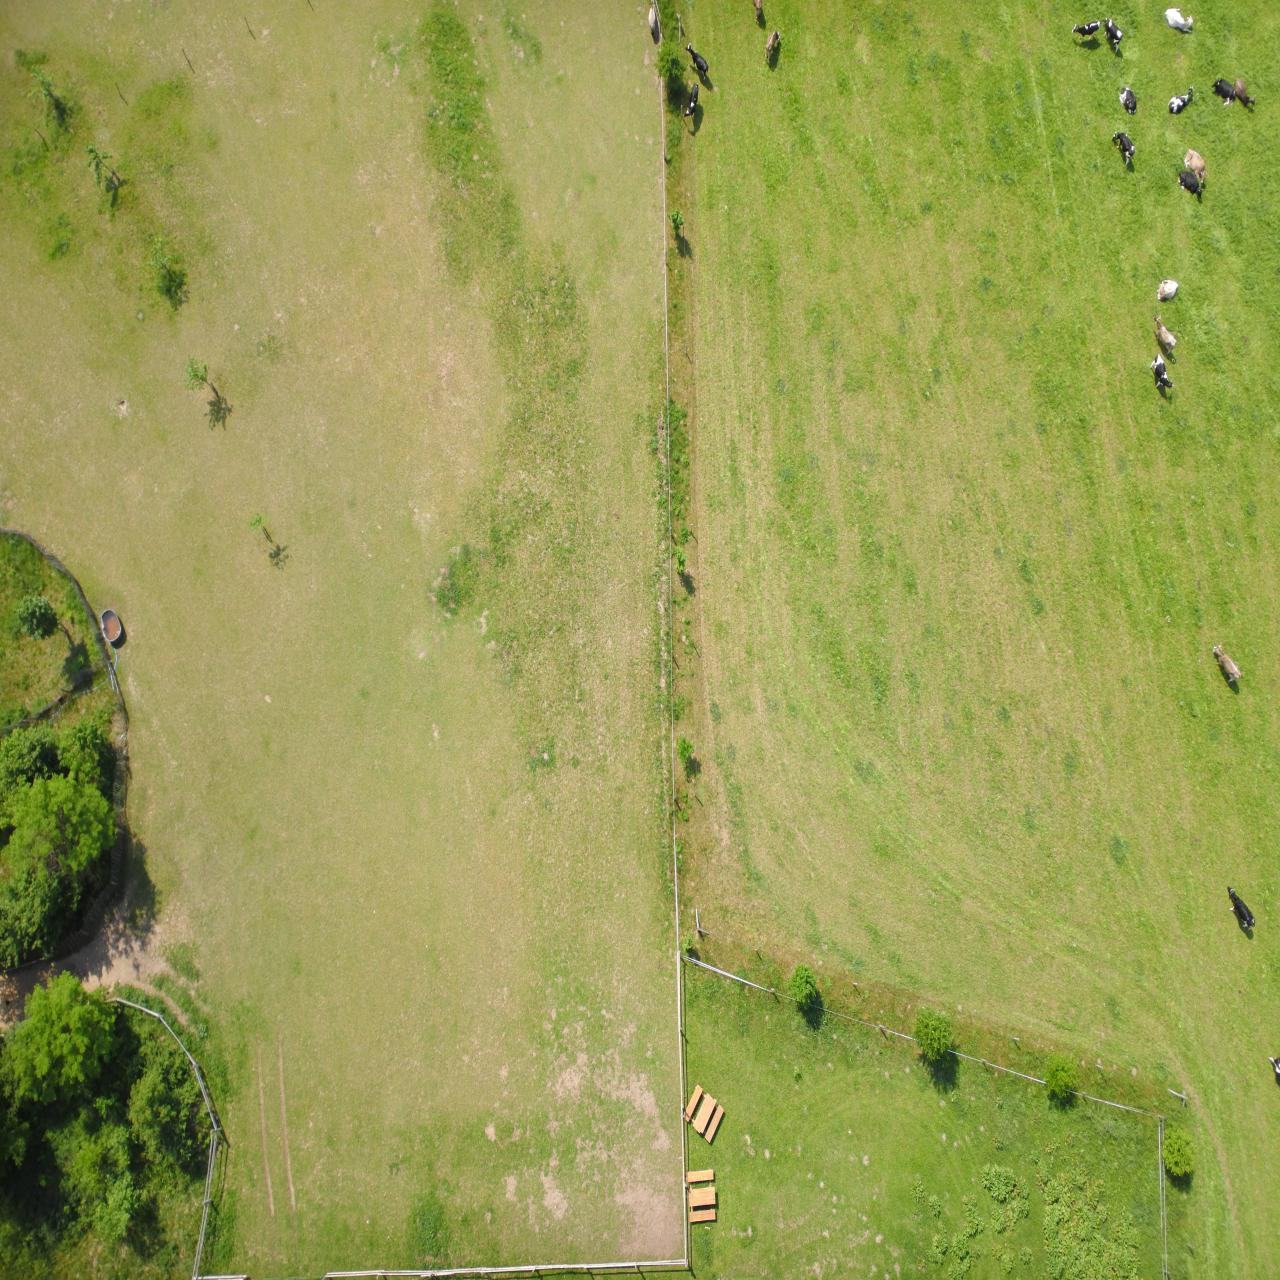cow: (25, 349, 53, 393), (39, 597, 67, 635), (101, 925, 127, 966), (105, 888, 129, 927), (571, 1200, 594, 1238), (73, 1097, 96, 1131), (144, 1115, 166, 1149), (156, 1227, 177, 1262), (86, 1166, 113, 1193), (42, 1175, 68, 1201), (87, 1247, 115, 1272), (23, 1173, 46, 1203), (76, 1084, 102, 1109), (179, 1240, 207, 1260), (143, 1165, 162, 1193), (581, 1162, 595, 1197), (499, 1219, 515, 1250), (101, 980, 123, 1000)
